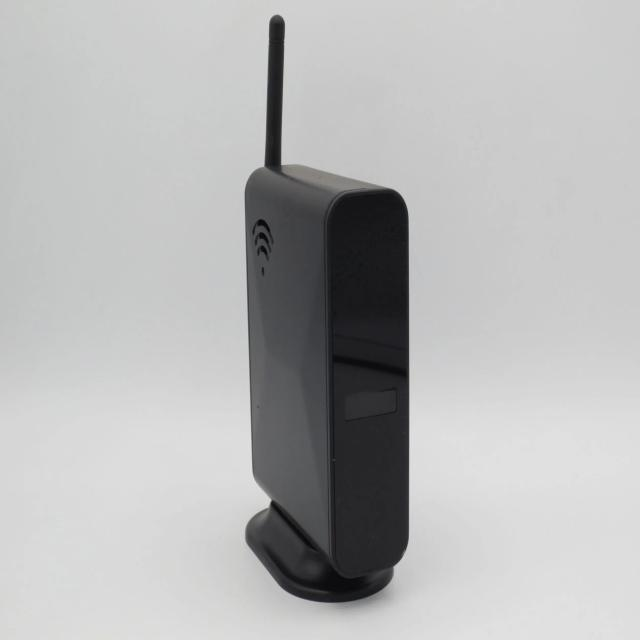hidden camera: (330, 452, 341, 469)
